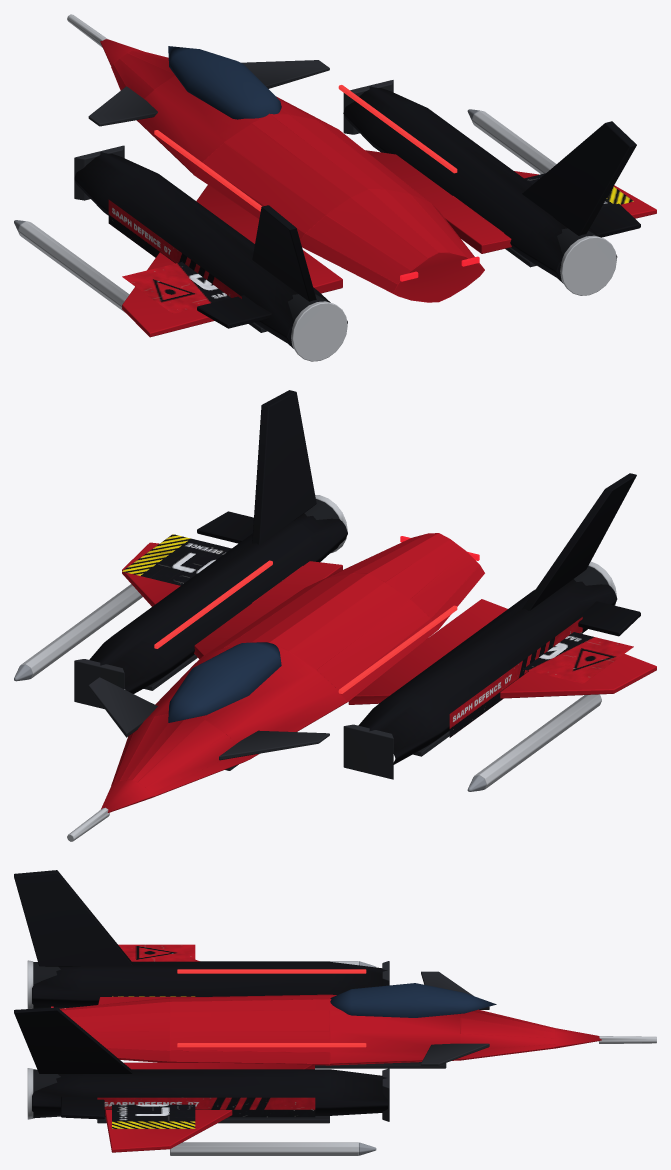
File: craft_1.glb
3 views of the same model, one above another, from view 1: azimuth 30°, elevation 25°; view 2: azimuth 150°, elevation 25°; view 3: azimuth 270°, elevation 25° (orthographic). The views are drawn at different scales.
Visible parts, largest first — view 1: craft_1_body, craft_1_canopy, craft_1_livery_L, craft_1_hull_L, flap_L_plate.001, flap_R_plate.001, craft_1_livery_R; view 2: craft_1_body, craft_1_canopy, craft_1_livery_R, craft_1_livery_L, craft_1_hull_L, flap_L_plate.001, flap_R_plate.001; view 3: craft_1_body, craft_1_canopy, craft_1_hull_R, craft_1_livery_R, craft_1_livery_L, flap_R_plate.001.
Part boxes in pixels (x1,y1,x2,y2): craft_1_body: [14, 14, 656, 361]; craft_1_canopy: [168, 46, 281, 119]; craft_1_livery_L: [122, 262, 230, 313]; craft_1_hull_L: [108, 199, 241, 298]; flap_L_plate.001: [197, 295, 271, 328]; flap_R_plate.001: [590, 203, 640, 237]; craft_1_livery_R: [453, 173, 633, 233]; craft_1_body: [14, 390, 656, 841]; craft_1_canopy: [168, 642, 281, 722]; craft_1_livery_R: [122, 534, 302, 603]; craft_1_livery_L: [523, 632, 633, 683]; craft_1_hull_L: [449, 617, 582, 737]; flap_L_plate.001: [573, 601, 640, 636]; flap_R_plate.001: [197, 511, 253, 543]; craft_1_body: [14, 870, 656, 1155]; craft_1_canopy: [330, 983, 496, 1017]; craft_1_hull_R: [97, 1097, 315, 1117]; craft_1_livery_R: [112, 1104, 195, 1128]; craft_1_livery_L: [112, 944, 195, 996]; flap_R_plate.001: [61, 1096, 104, 1119].
Bounding box in the file's own units: 6.6 × 1.9 × 8.85.
11 materials, 2 textured.
